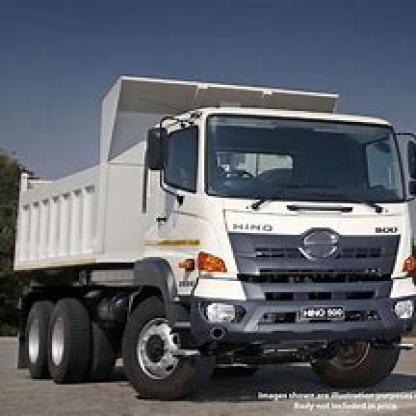dump_truck: (8, 58, 414, 402)
